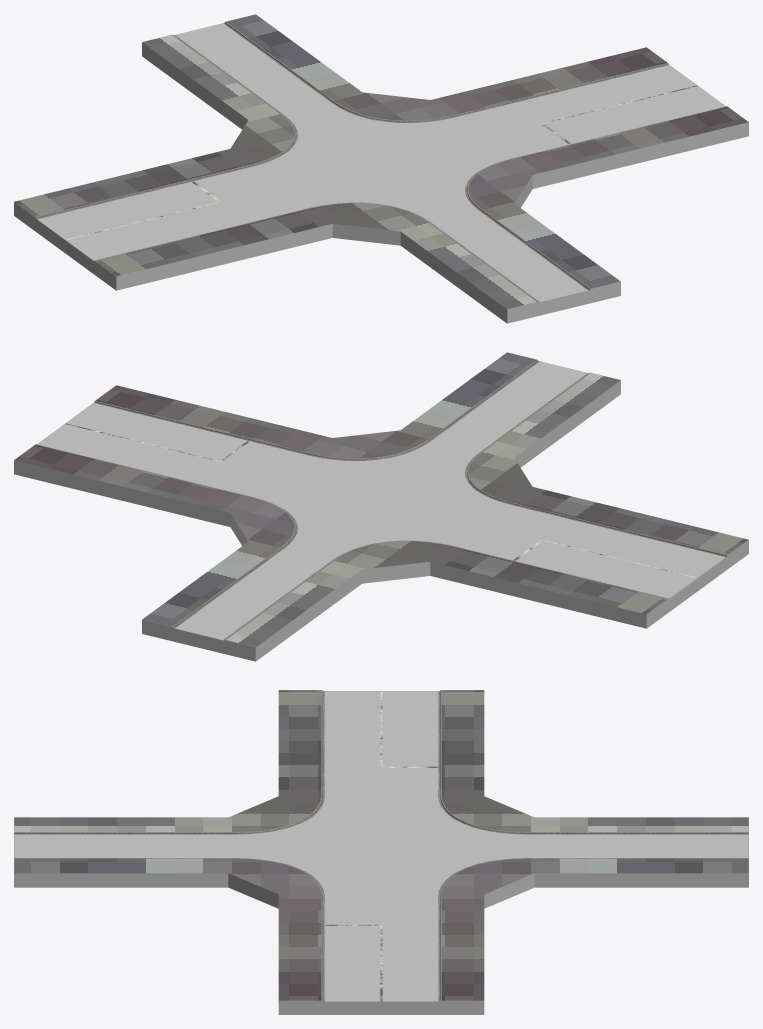
File: Road_03a_x.fbx
The picture shows the model from 3 angles, top to bottom: view 1: azimuth 30°, elevation 25°; view 2: azimuth 150°, elevation 25°; view 3: azimuth 270°, elevation 25°; orthographic projection.
Visible parts, largest first — view 1: Road_03a_x; view 2: Road_03a_x; view 3: Road_03a_x.
Part boxes in pixels (x1,y1,x2,y2): Road_03a_x: (14, 14, 748, 323); Road_03a_x: (14, 352, 748, 661); Road_03a_x: (14, 690, 748, 1014).
Size of the model in its own units: 100 by 2.16 by 100.
